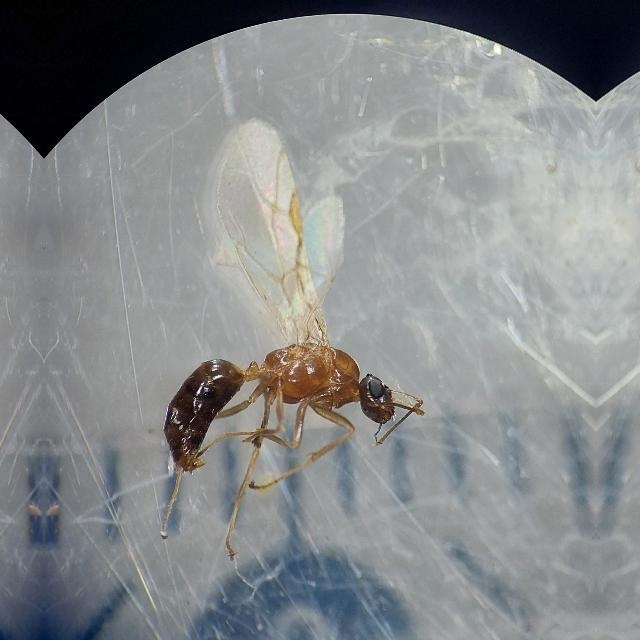Camponotus: (137, 280, 427, 510)
